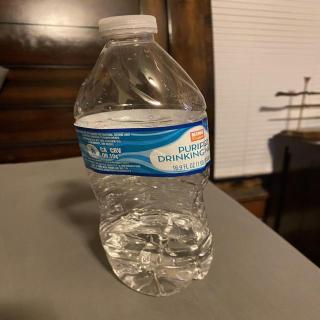Plastic-bottle: (65, 9, 223, 300)
